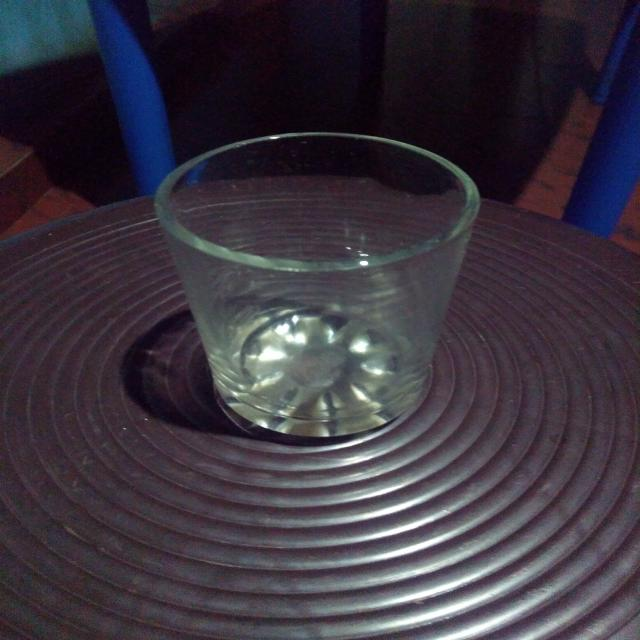Glass: (150, 126, 483, 441)
